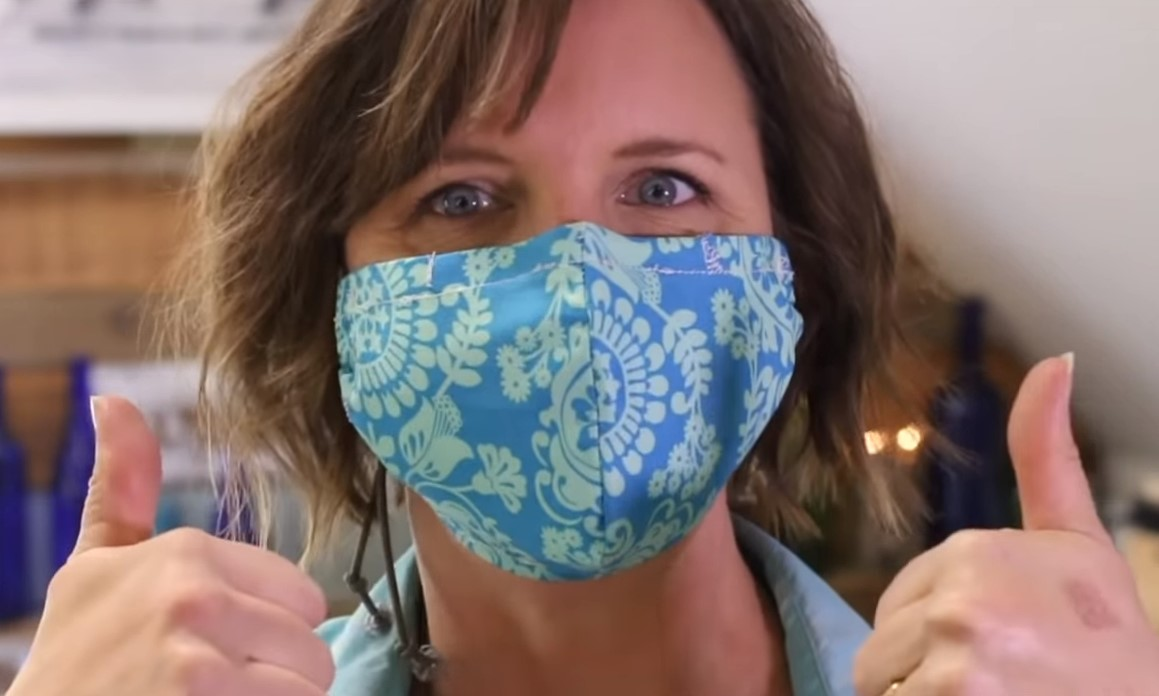face_with_mask: (258, 6, 837, 588)
